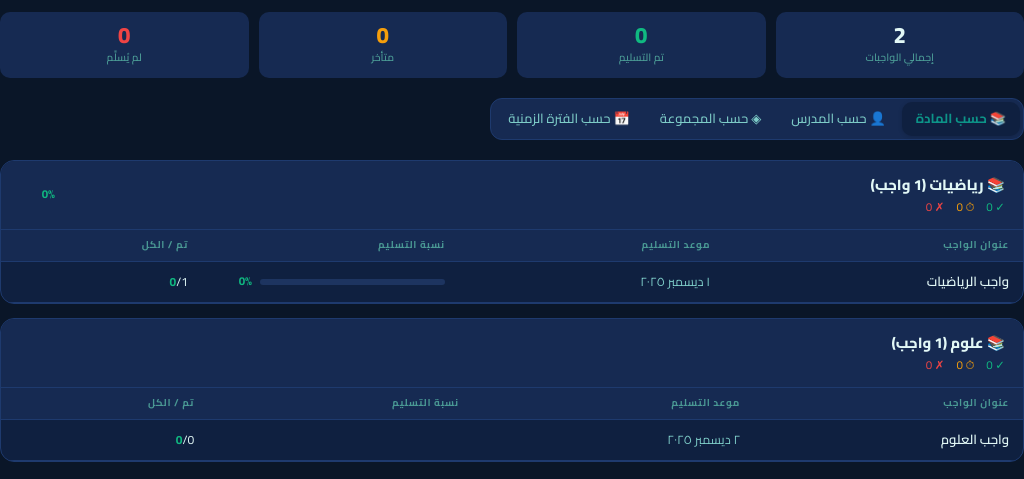
Scenario: HomeworkReports — "by group" breakdown and period filter resolve grade-targeted homeworks (C3 fix) › the "by group" tab lists each group under its own matching-grade homework, not an empty breakdown for either
Expected: the text "واجب الرياضيات" is shown, x1=724 y1=262 x2=1023 y2=302
Click the button "◈ حسب المجموعة" at (711, 119), box x1=646 y1=102 x2=775 y2=136
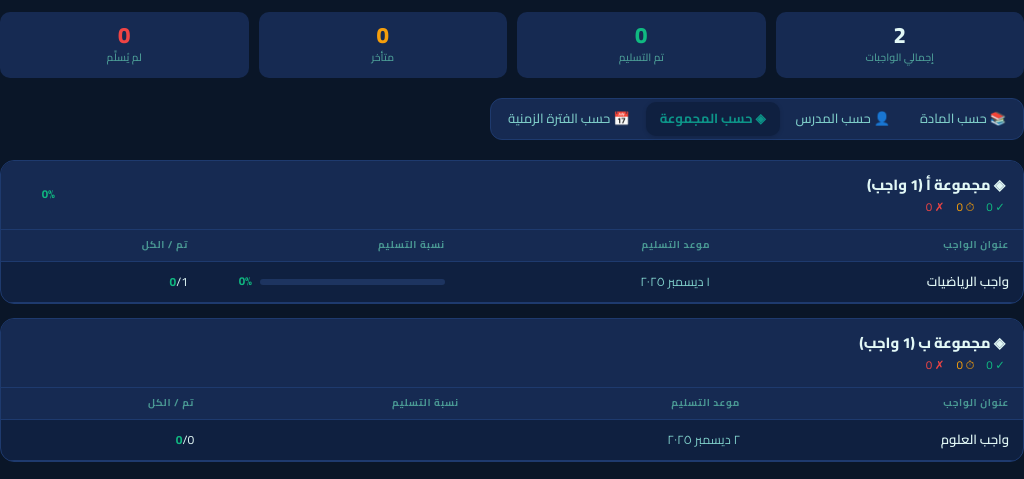
Expected: the text "واجب الرياضيات" is shown, x1=724 y1=262 x2=1023 y2=302
Expected: the text "◈ مجموعة أ (1 واجب)" is shown, x1=867 y1=171 x2=1005 y2=198
Expected: the text "◈ مجموعة ب (1 واجب)" is shown, x1=859 y1=329 x2=1005 y2=356
